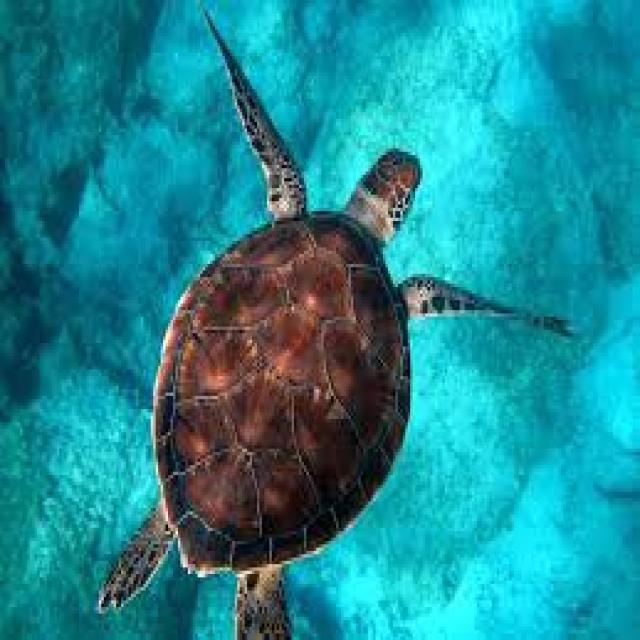turtle: (126, 153, 493, 571)
